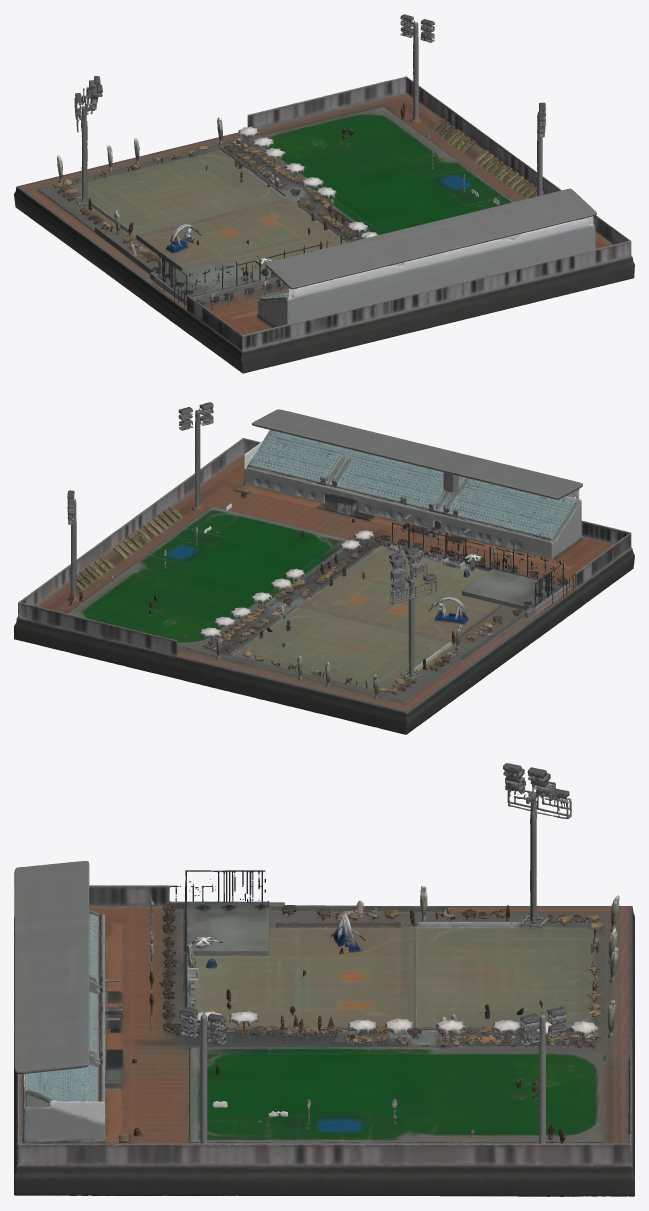
The model's file is city-club-4.glb.
3 views of the same model, one above another, from view 1: azimuth 30°, elevation 25°; view 2: azimuth 150°, elevation 25°; view 3: azimuth 270°, elevation 25° (orthographic). The views are drawn at different scales.
Size of the model in its own units: 1 by 0.3514 by 1.
Materials: 1 (1 with a texture image).
